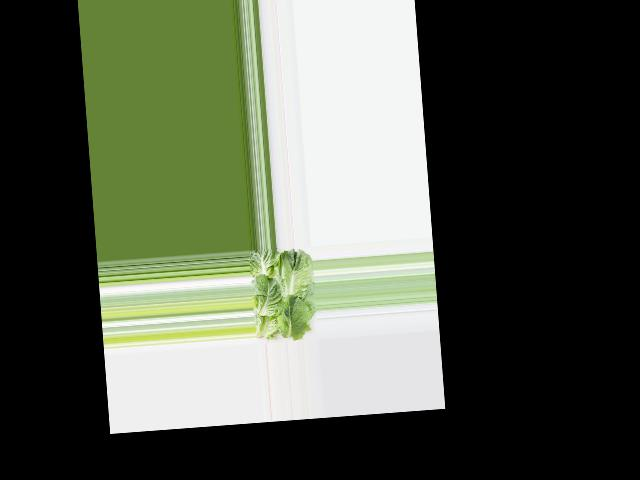lettuce: (248, 247, 316, 341)
